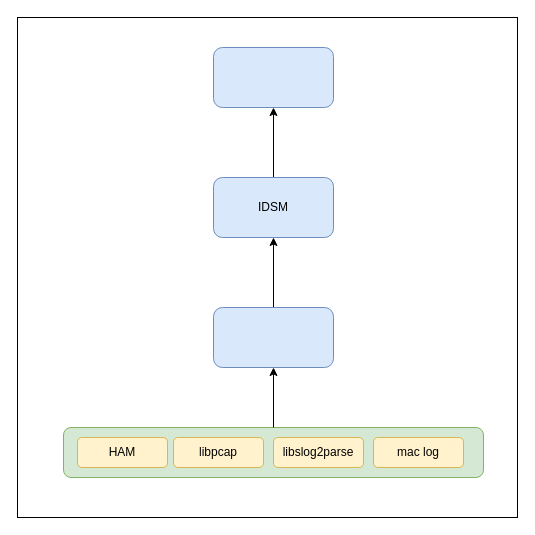
Some shapes in this 535 by 535 pixel diagram are drawn without their labels. The shapes that lost their labels are listed below. From the top down, each one's centre as x and y in pixels, then its label:
At [273,77]: "APP/显示终端".
At [273,337]: "IDS sensor".
